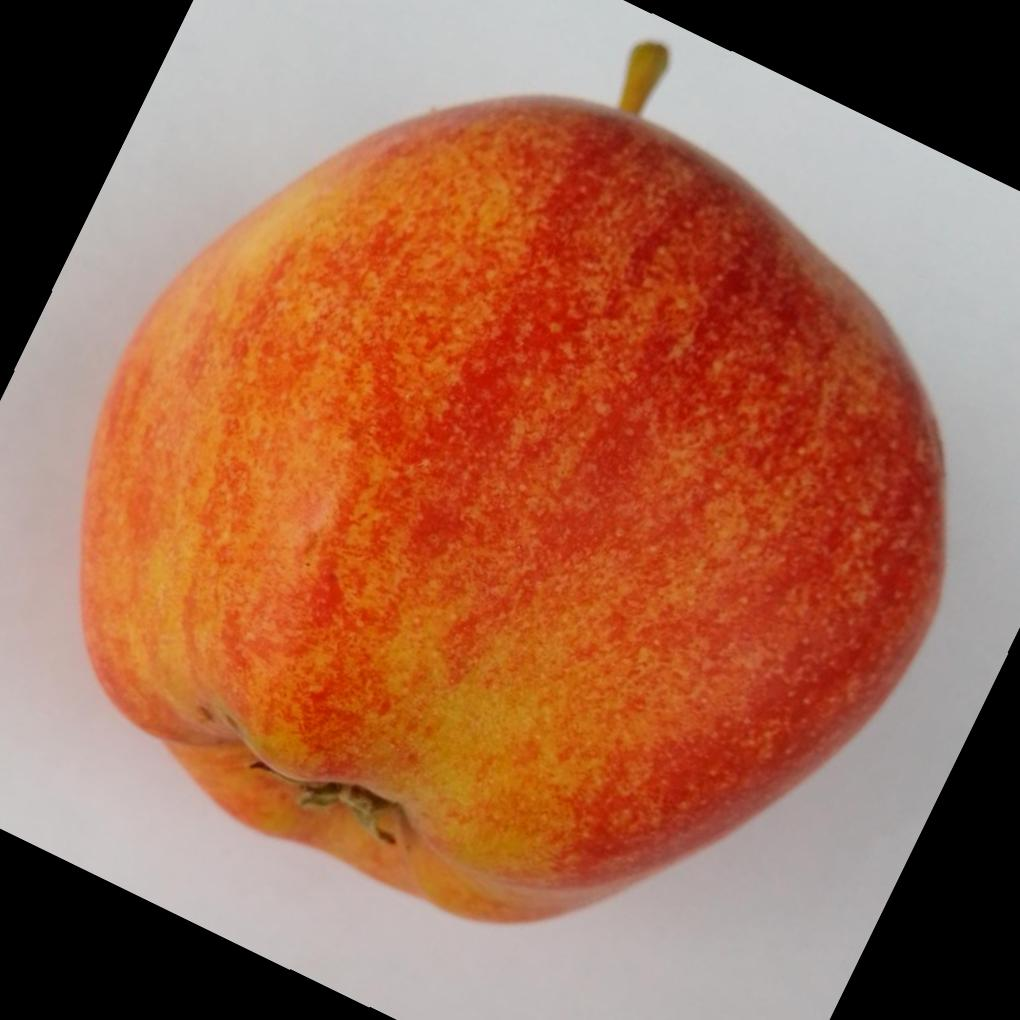FreshGuava: (73, 90, 946, 924)
